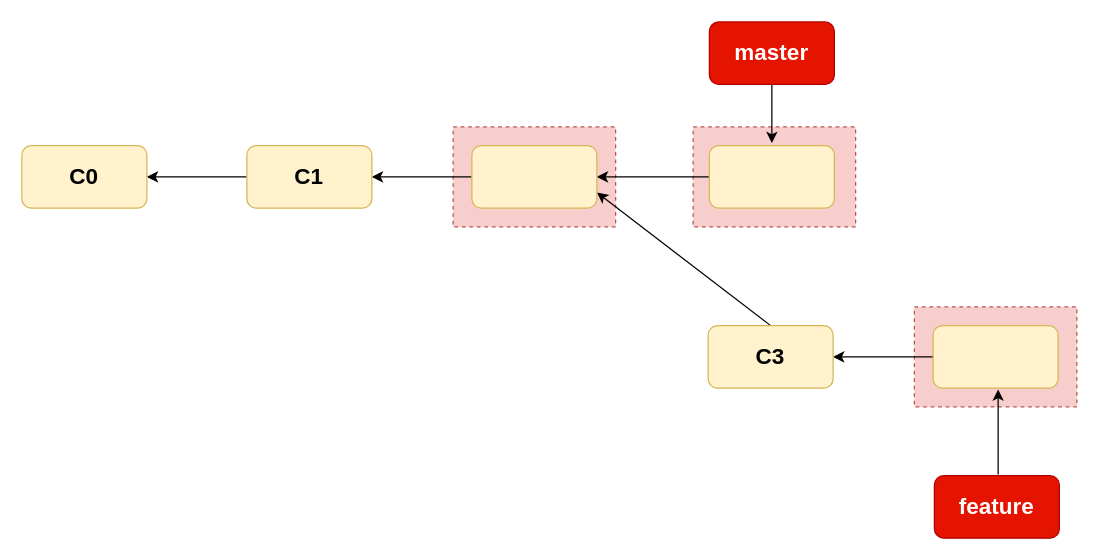
The diagram is 1099 pixels wide and 560 high, and some of its shapes have lost their labels. Each missing label, with the centre of its shape:
"C2" belongs at pixel 534 176.
"C4" belongs at pixel 771 176.
"C5" belongs at pixel 995 356.
